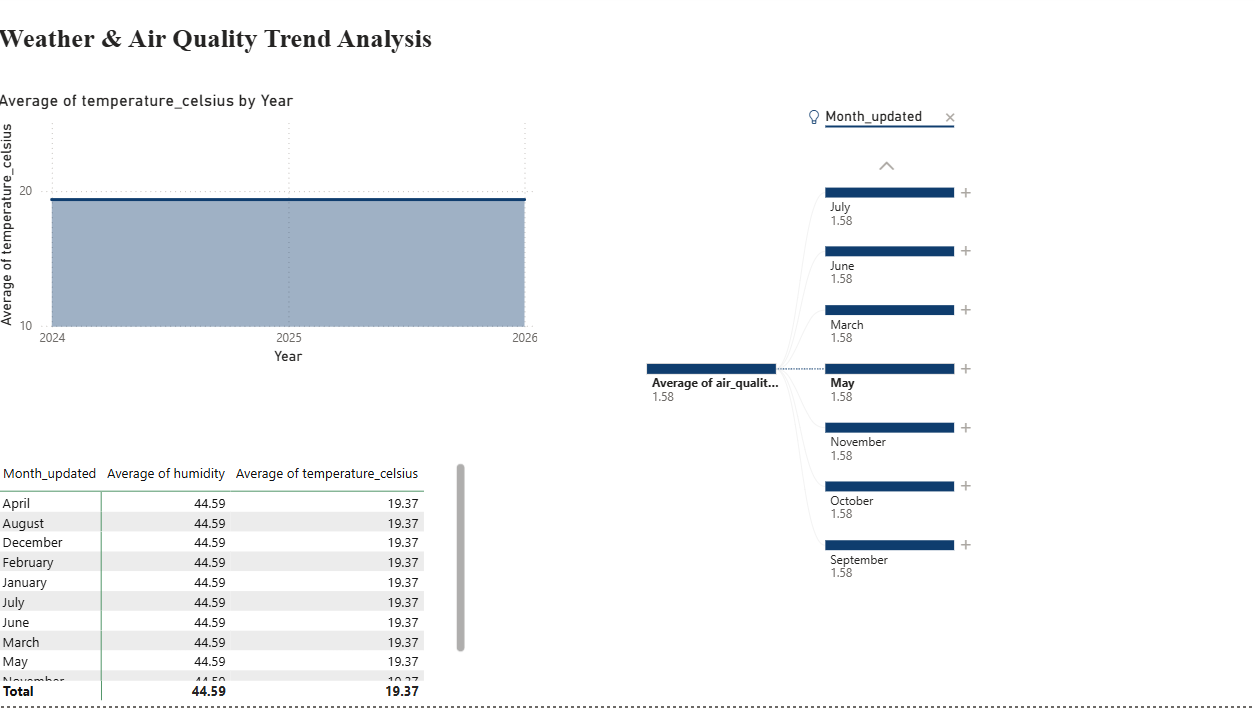

This screenshot's page, from the dashboard's own definition file:
{"tool":"powerbi","page":{"name":"Page 2","canvas":[1280,720],"ordinal":1},"visuals":[{"type":"areaChart","fields":{"Category":["Date_Table.Month_updated"],"Y":["Avg(GlobalWeatherRepository.temperature_celsius)"]},"box":[0,98.4,554.2,280.1],"z":0},{"type":"textbox","box":[0,24.2,554.2,54.5],"z":1},{"type":"decompositionTreeVisual","fields":{"Analyze":["Avg(Fact_Weather.air_quality_us-epa-index)"],"ExplainBy":["Date_Table.Month_updated","Dim_Location.country"]},"box":[629.9,98.4,629.9,539.1],"z":2},{"type":"pivotTable","fields":{"Rows":["Date_Table.Month_updated"],"Values":["Avg(GlobalWeatherRepository.humidity)","Avg(GlobalWeatherRepository.temperature_celsius)"]},"box":[0,469.4,481.5,249.8],"z":3}]}

Visuals, with their boxes in screenshot pixels (x1, y1, x2, y2), scaled from the page's 1280x720 canvas onto the 1255x709 screenshot:
areaChart - Date_Table.Month_updated x Avg(GlobalWeatherRepository.temperature_celsius): (x1=0, y1=97, x2=543, y2=373)
textbox: (x1=0, y1=24, x2=543, y2=77)
decompositionTreeVisual - Avg(Fact_Weather.air_quality_us-epa-index) x Date_Table.Month_updated: (x1=618, y1=97, x2=1235, y2=628)
pivotTable - Date_Table.Month_updated x Avg(GlobalWeatherRepository.humidity): (x1=0, y1=462, x2=472, y2=708)
